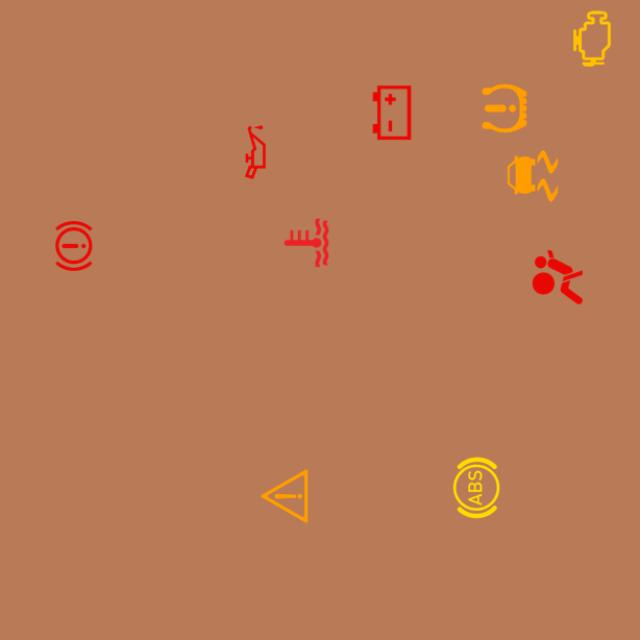Anti Lock Braking System: (443, 455, 510, 521)
Braking System Issue: (41, 213, 107, 279)
Charging System Issue: (359, 79, 425, 146)
Check Engine: (559, 5, 625, 72)
Electronic Stability Problem -ESP-: (499, 143, 566, 209)
Engine Overheating Warning Light: (273, 210, 340, 276)
Low Engine Oil Warning Light: (222, 119, 289, 185)
Low Tire Pressure Warning Light: (471, 75, 538, 142)
Master warning light: (251, 463, 318, 529)
SRS-Airbag: (524, 244, 591, 311)
